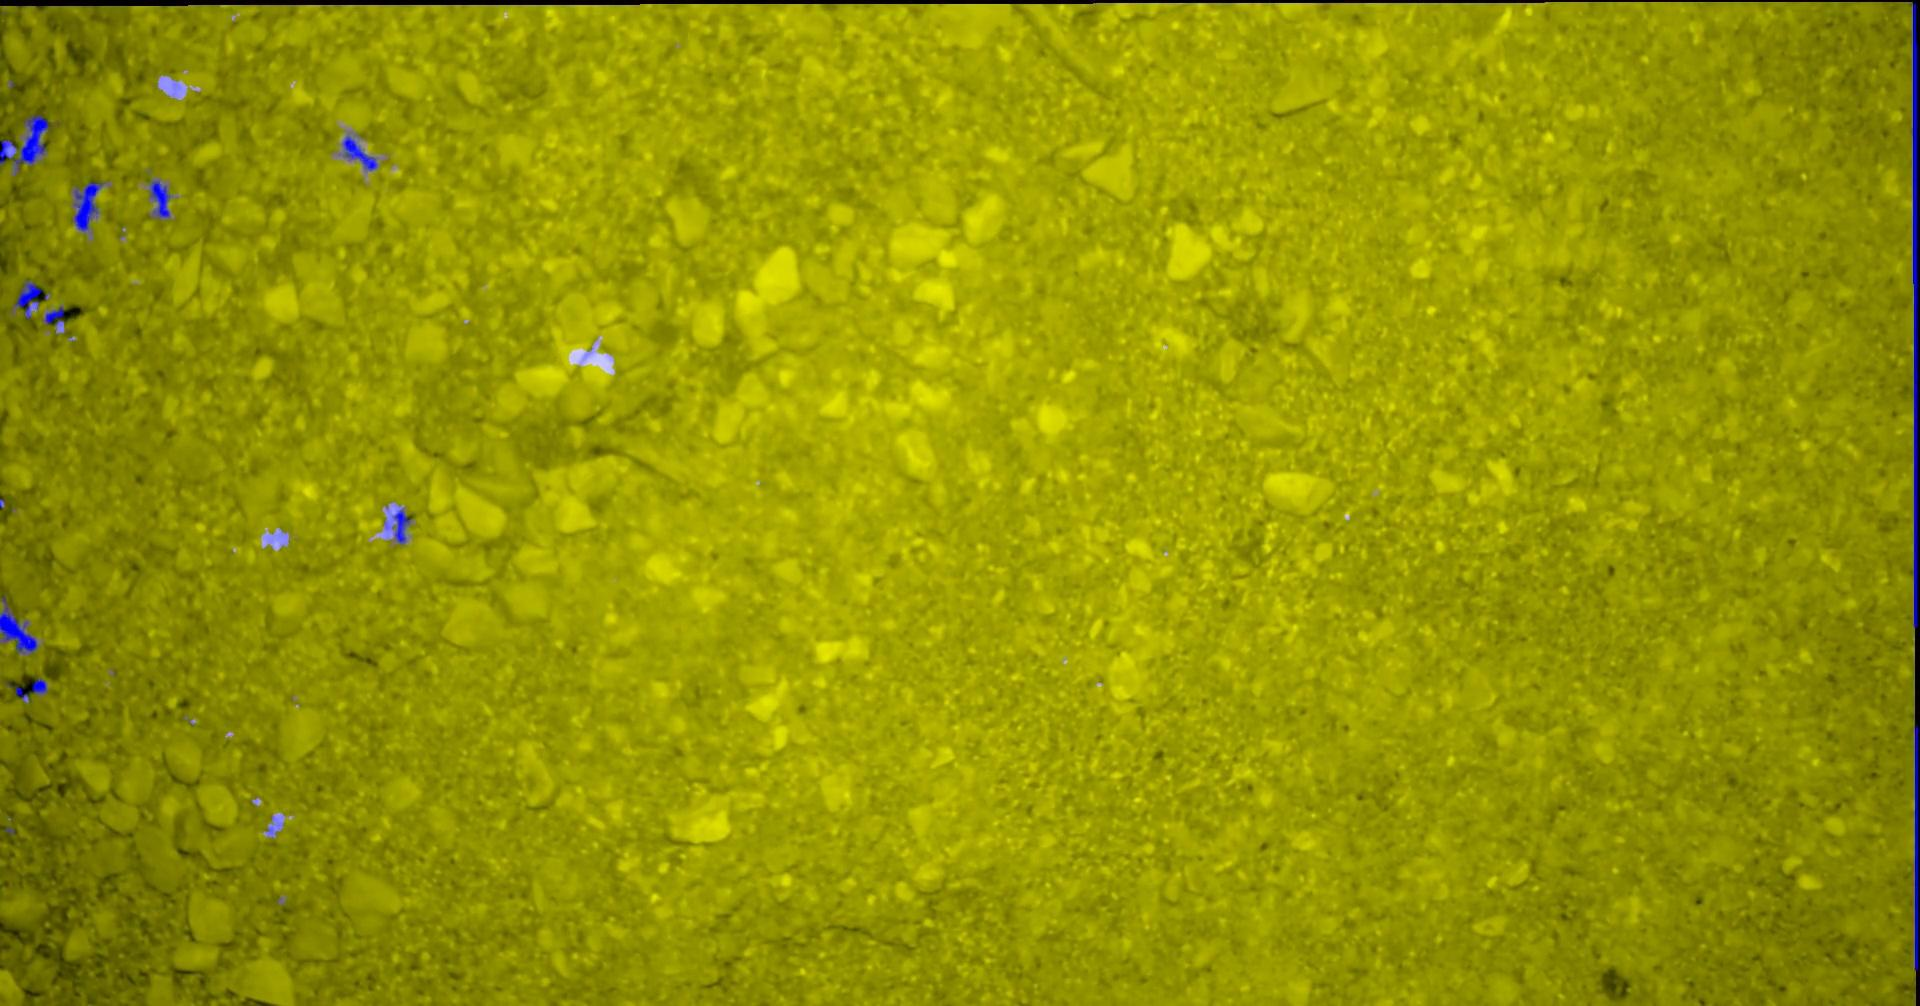ant: (0, 596, 38, 653), (71, 180, 104, 231), (11, 279, 46, 319), (342, 135, 377, 170), (149, 180, 171, 218), (392, 508, 411, 542), (44, 305, 63, 324), (30, 677, 47, 694)
